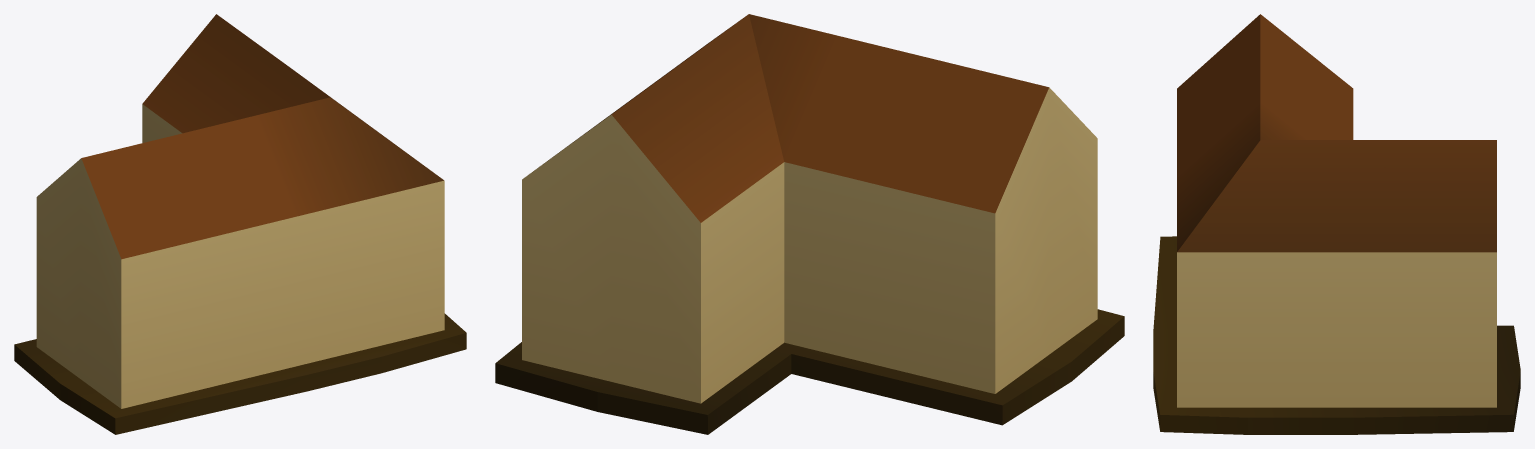
File: LHouse.glb
3 renders of one model, left to right at view 1: azimuth 30°, elevation 25°; view 2: azimuth 150°, elevation 25°; view 3: azimuth 270°, elevation 25°, orthographic. The views are drawn at different scales.
Visible parts, largest first — view 1: LHouse; view 2: LHouse; view 3: LHouse.
Part boxes in pixels (x1,y1,x2,y2): LHouse: (14, 14, 466, 434); LHouse: (495, 14, 1124, 434); LHouse: (1153, 14, 1520, 434).
Bounding box in the file's own units: 4.9 × 3.07 × 4.14.
1 material, 1 textured.
